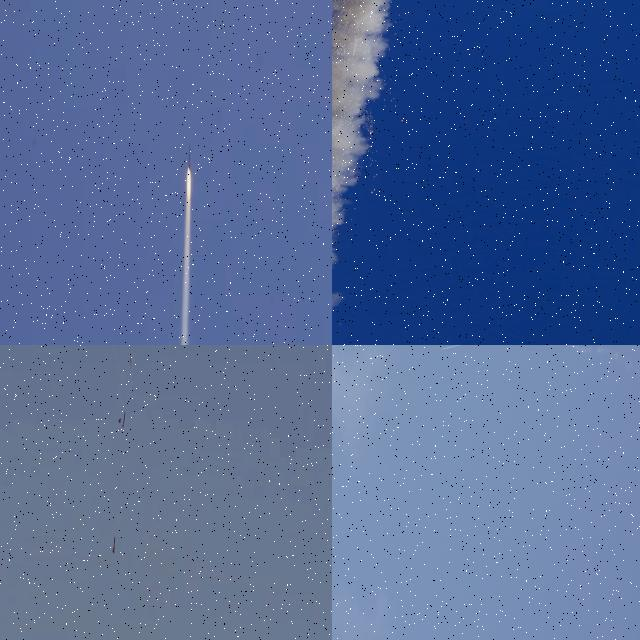Rocket: (188, 145, 191, 172), (112, 535, 116, 553), (440, 348, 444, 350)
